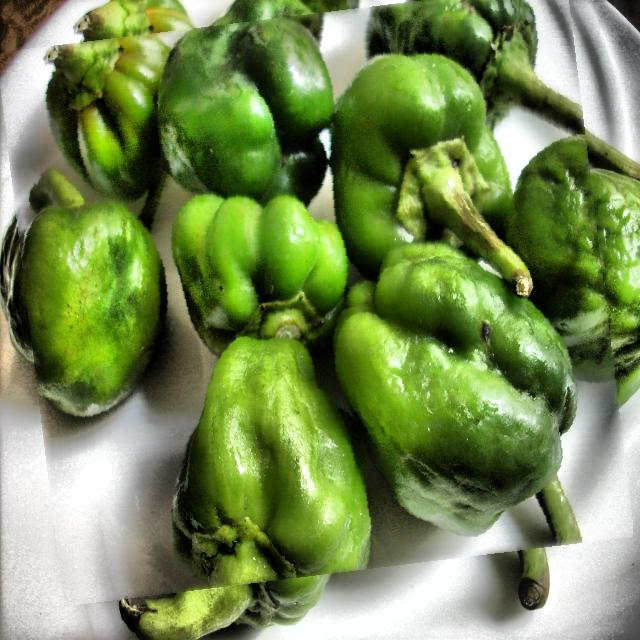green pepper: (11, 0, 617, 589)
